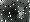person: (18, 8, 25, 19)
